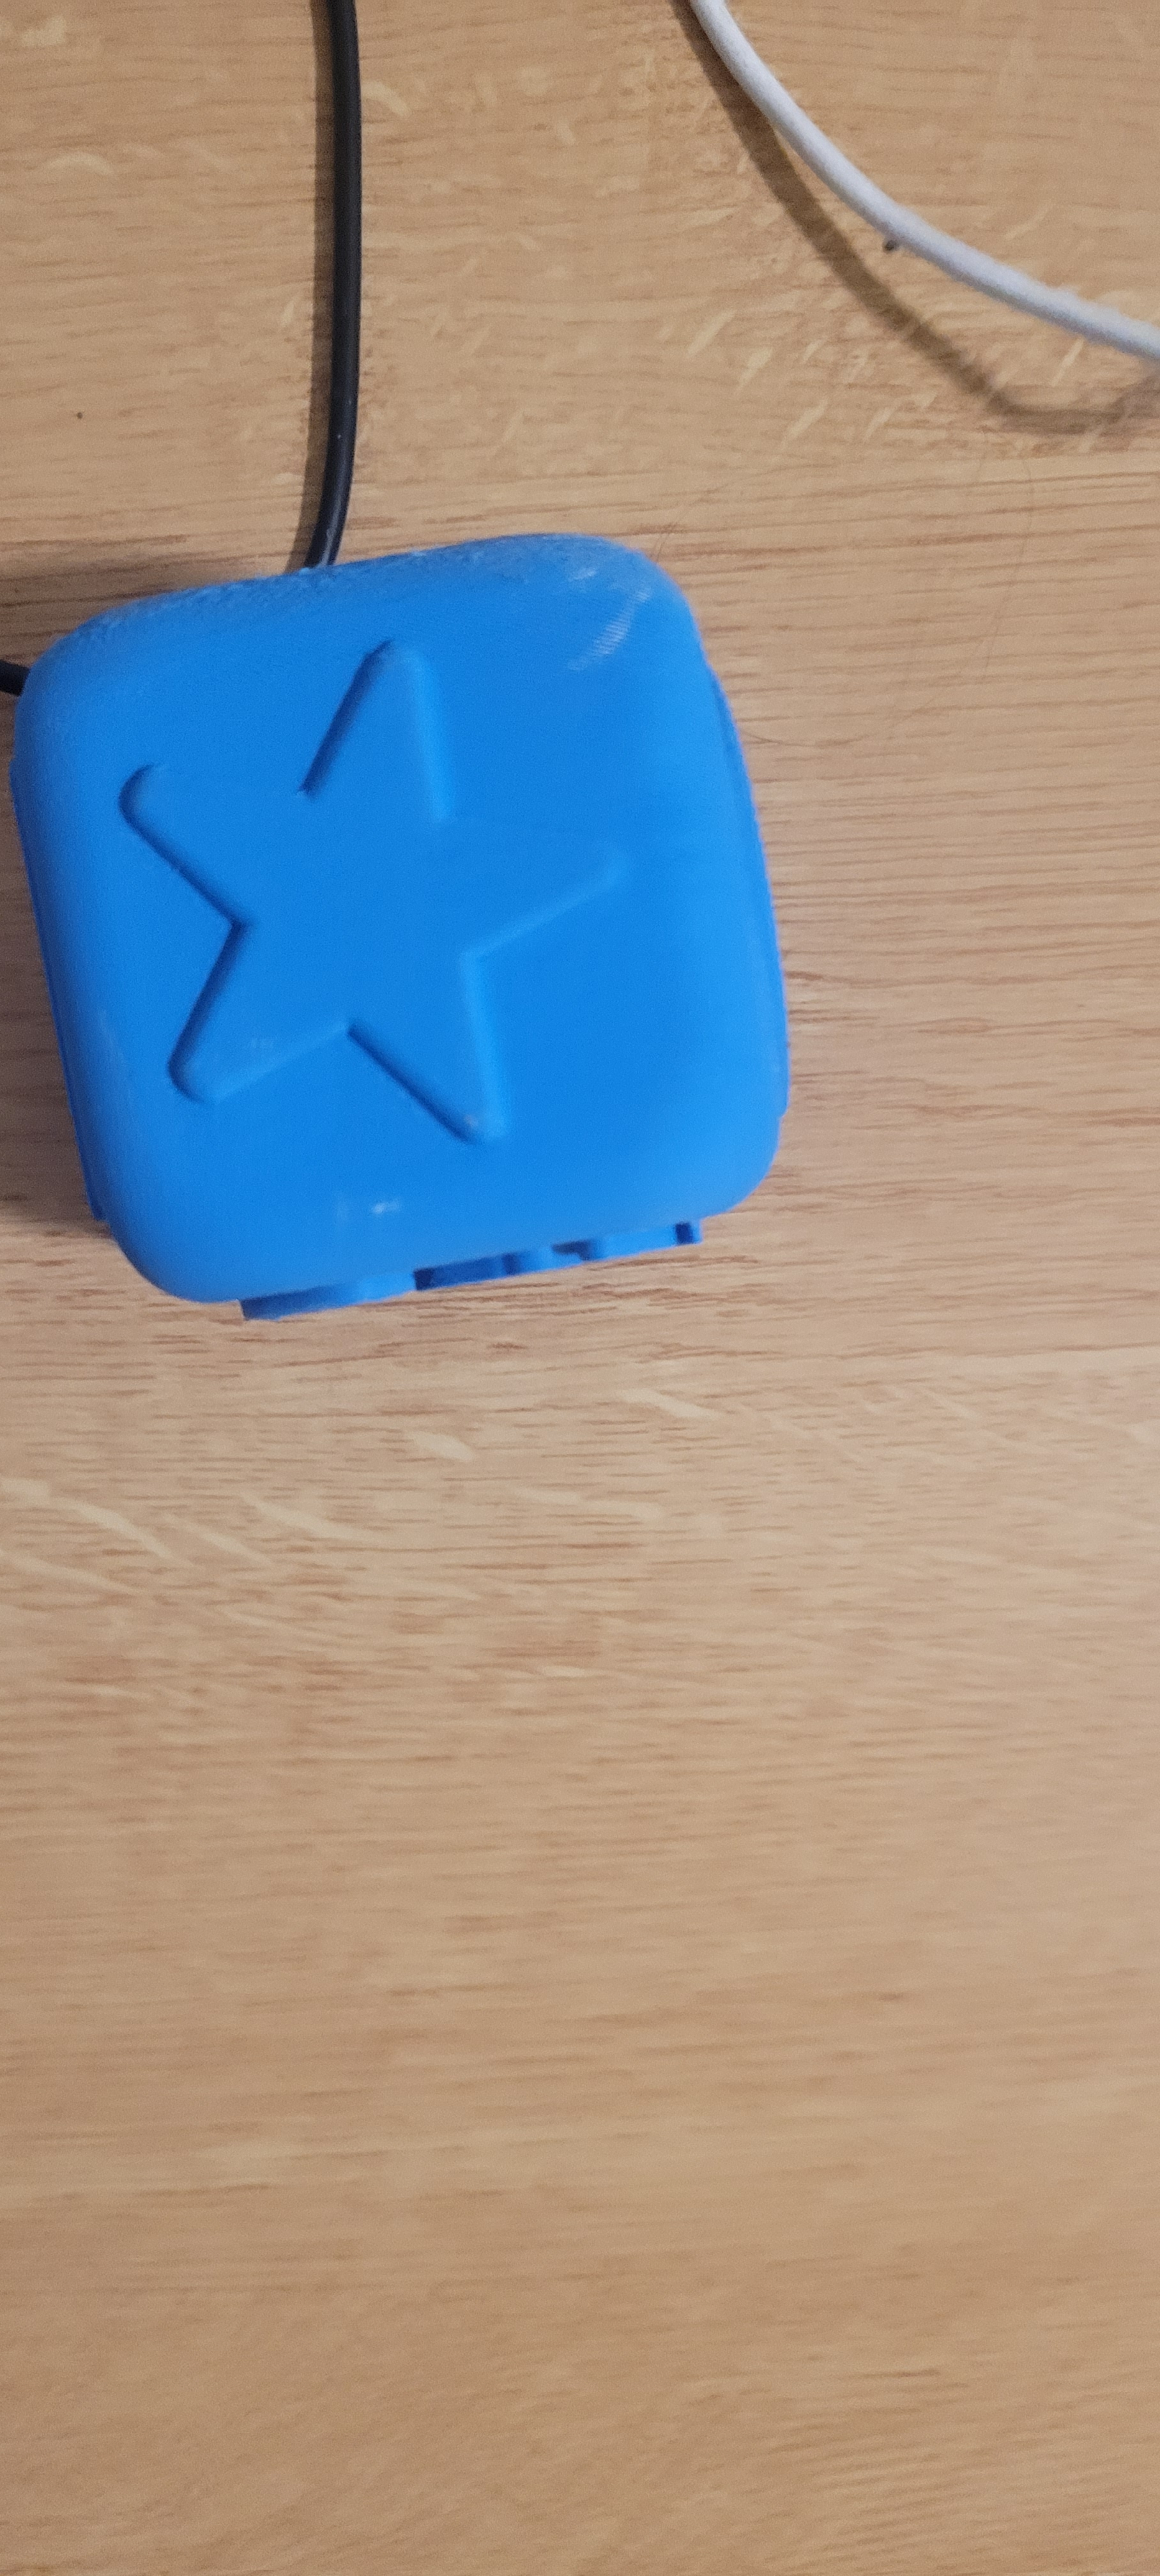Star: (59, 665, 633, 1143)
